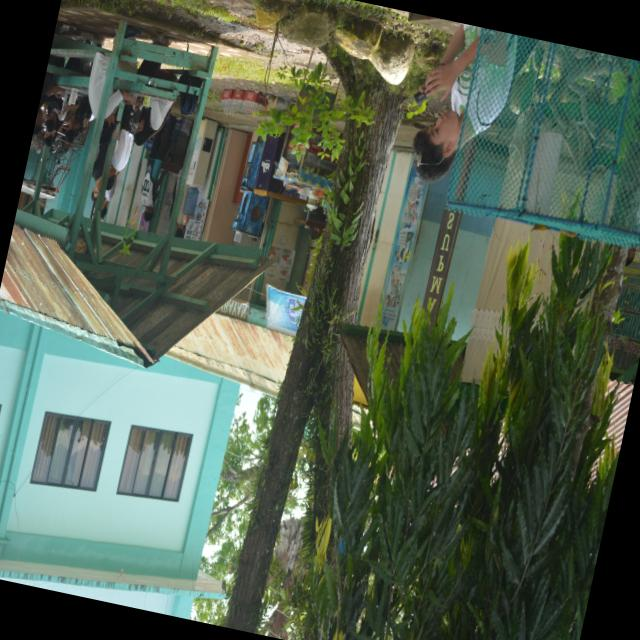person: (414, 24, 527, 181), (89, 52, 133, 142), (142, 116, 177, 220), (107, 105, 133, 189), (134, 98, 174, 145), (91, 141, 109, 201), (101, 175, 118, 218)
